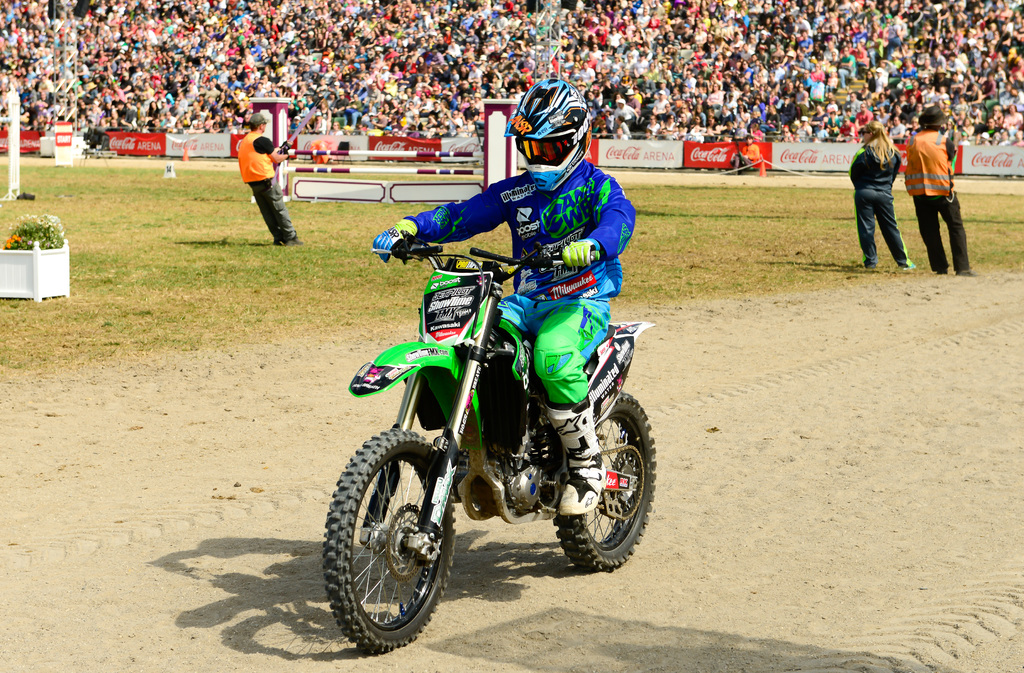Person: (0, 0, 1024, 144), (373, 75, 639, 515), (903, 104, 981, 275), (846, 120, 917, 269), (236, 114, 304, 244), (738, 134, 762, 170)
